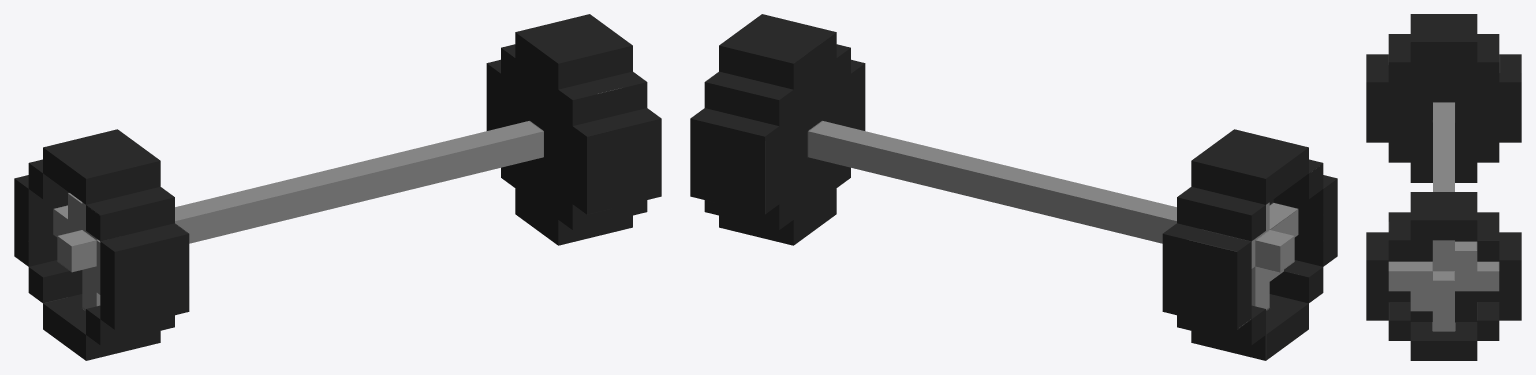
The model's file is Tractor_3_Rim_1.obj.
The picture shows the model from 3 angles, left to right: view 1: azimuth 30°, elevation 25°; view 2: azimuth 150°, elevation 25°; view 3: azimuth 270°, elevation 25°; orthographic projection. The views are drawn at different scales.
Visible parts, largest first — view 1: Tractor_3_Rim_1_Tractor_3_Rim_1.001; view 2: Tractor_3_Rim_1_Tractor_3_Rim_1.001; view 3: Tractor_3_Rim_1_Tractor_3_Rim_1.001.
Boxes of the visible parts, x1,y1,x2,y2 form: Tractor_3_Rim_1_Tractor_3_Rim_1.001: (14, 14, 661, 360); Tractor_3_Rim_1_Tractor_3_Rim_1.001: (690, 14, 1337, 360); Tractor_3_Rim_1_Tractor_3_Rim_1.001: (1366, 14, 1521, 360).
Size of the model in its own units: 2.2 by 0.7 by 0.7.
